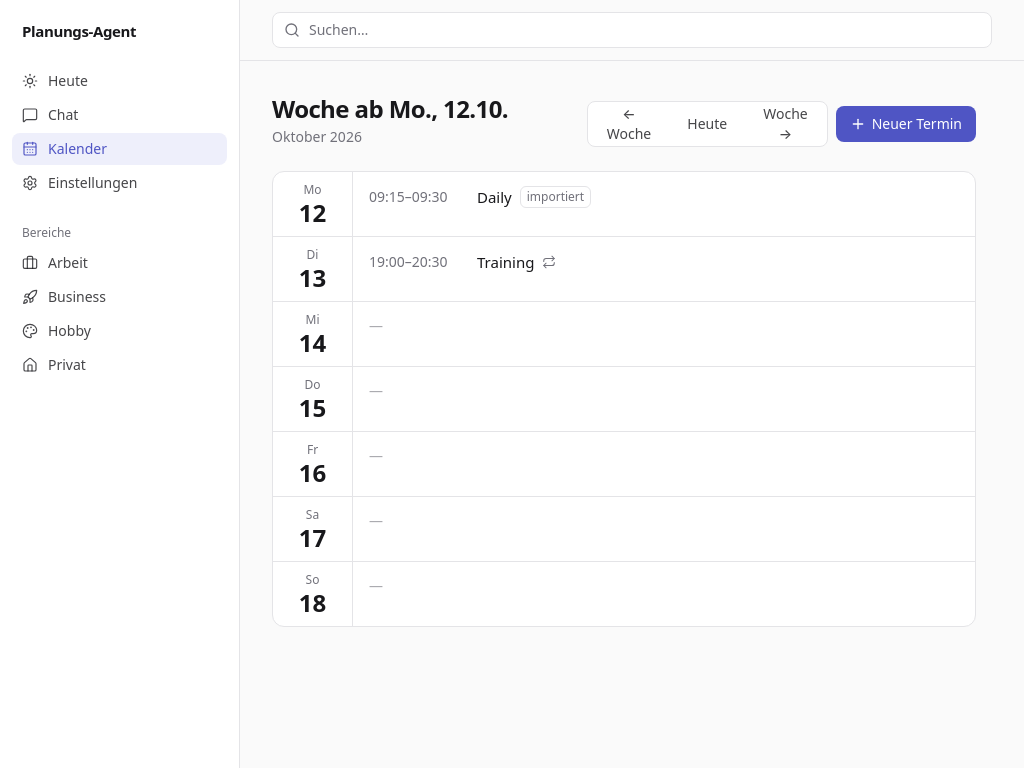
Test case: imported events are read-only
Click the text "Daily": {"x": 494, "y": 197} [477,186,512,208]
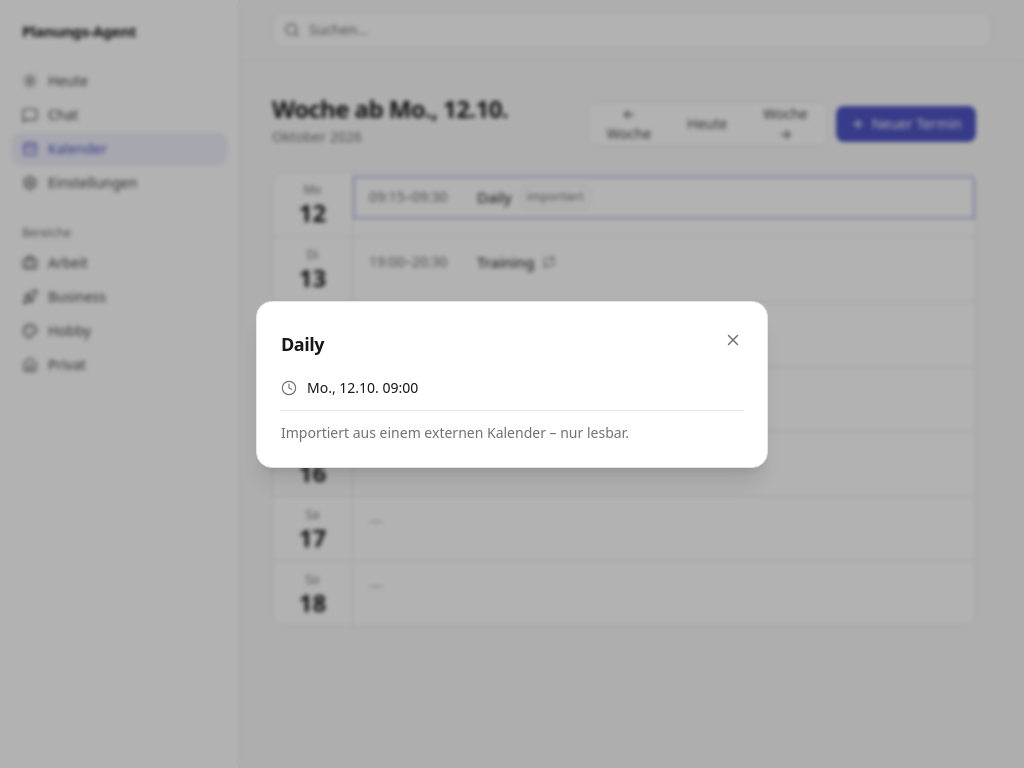
Now the text "Importiert aus einem externen Kalender – nur lesbar." is shown, box [281,410,743,442]
